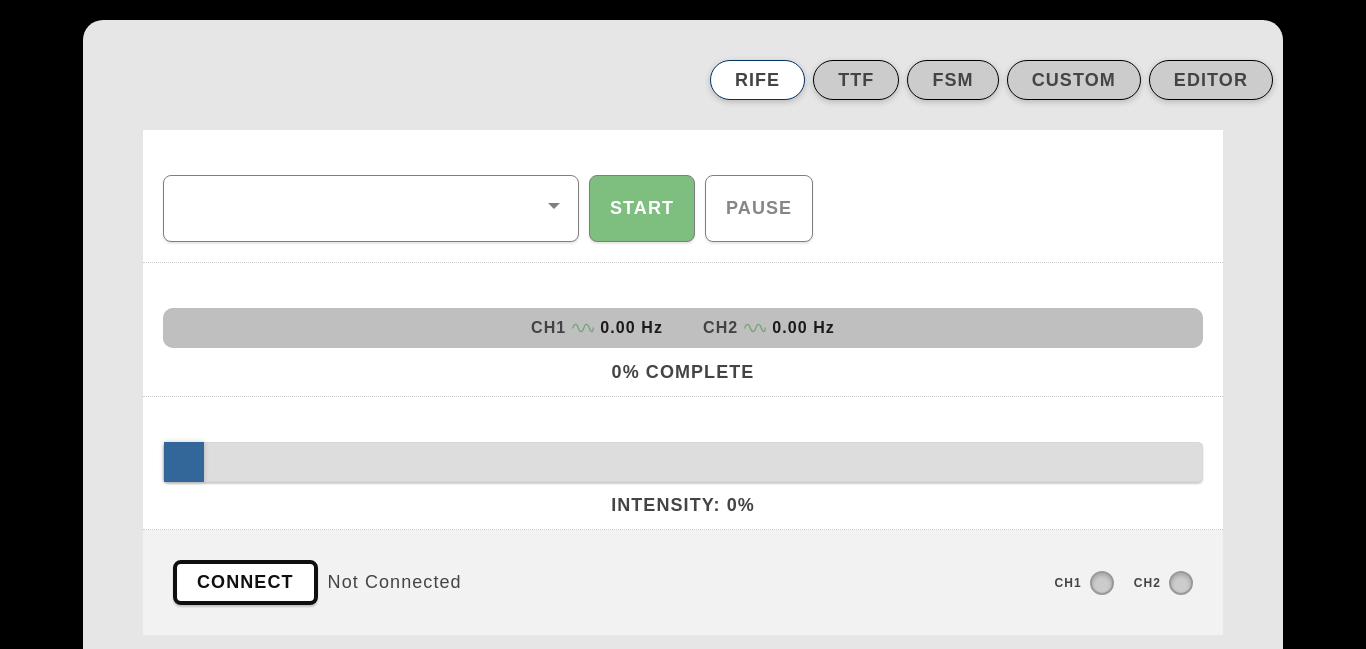
App › navigates to editor when clicking editor tab
Click the link "Editor".
click(1211, 80)  # box [1149,60,1273,100]
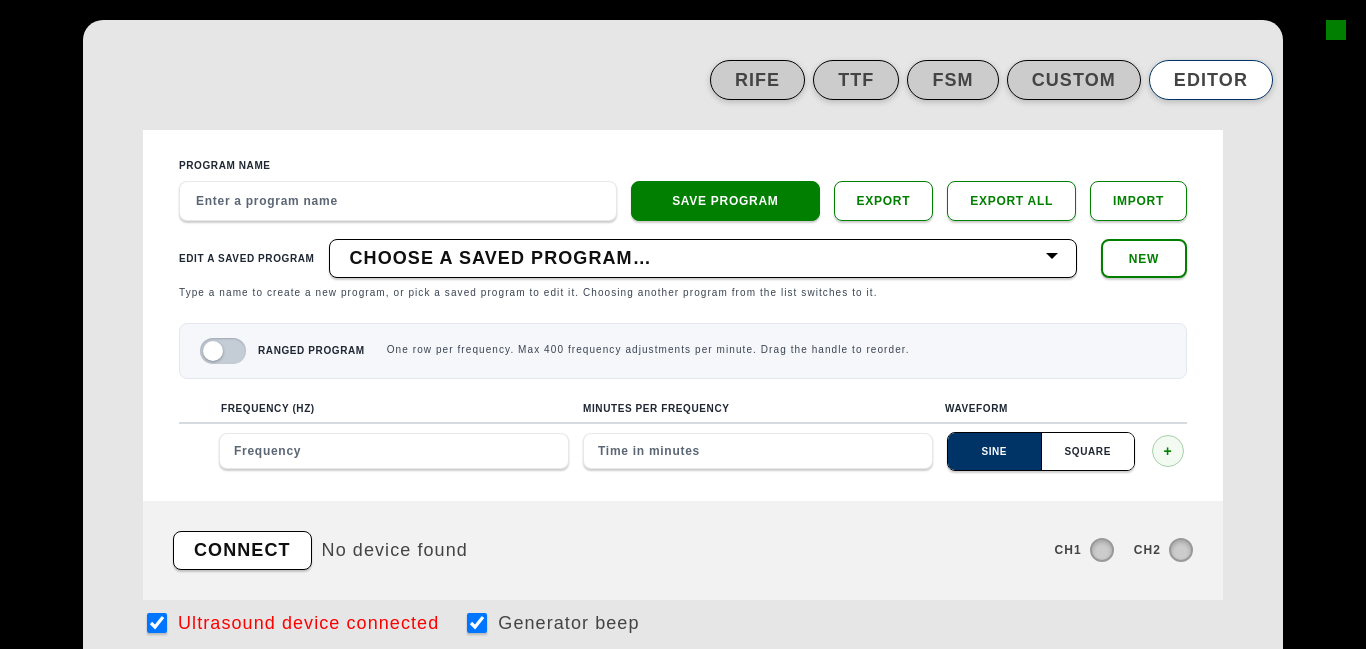
Now the text "Program name" is shown, box [179,160,271,171]
